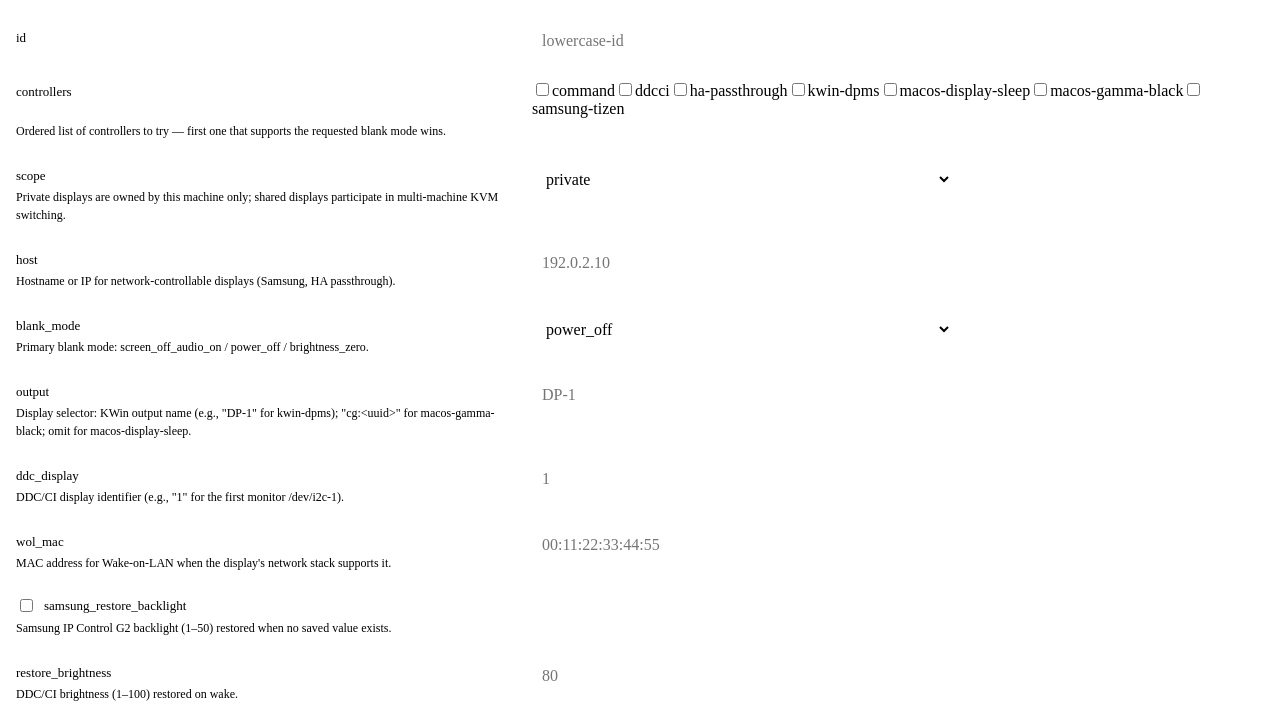
Test case: CreateEntityForm — guided help / placeholders for every creatable field (2.i) › displays in shared mode additionally renders shared_*_code help
The image size is (1280, 720).
Select "shared" in the dropdown labelled "scope". click: coordinates (742, 180)
box: 532,164 -> 952,195
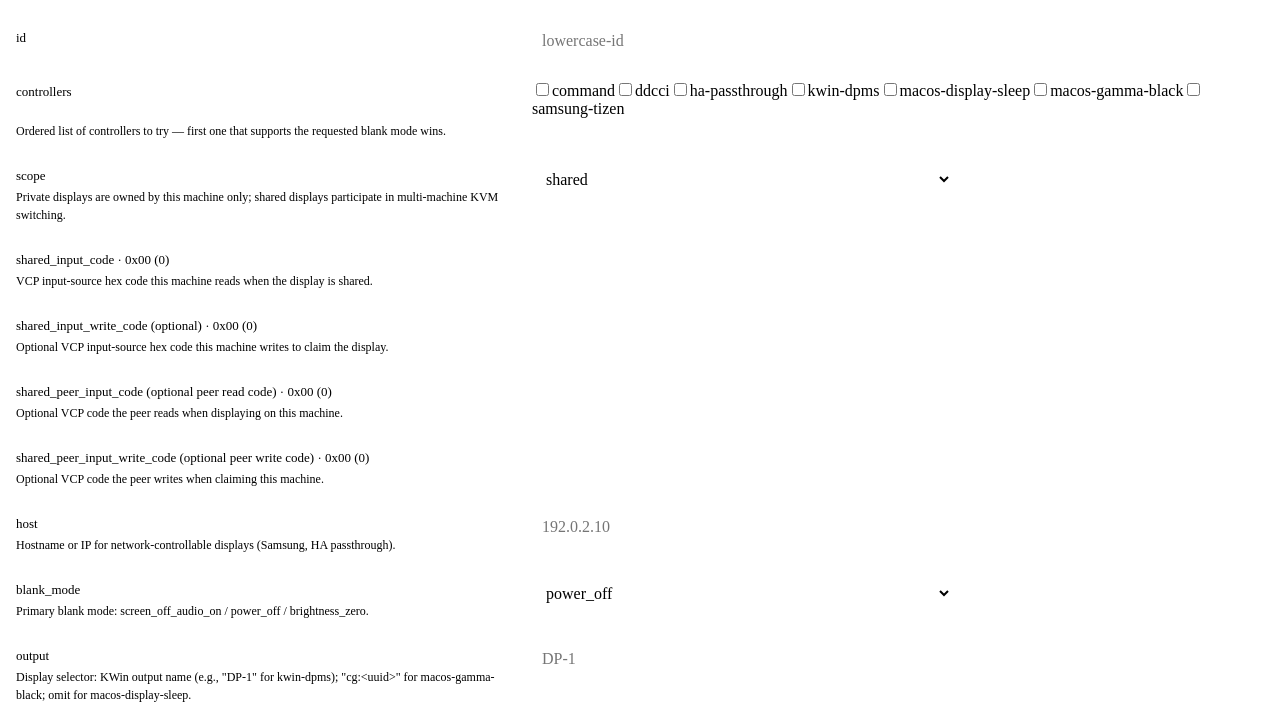
Now the text "VCP input-source hex code this machine reads when the display is shared." is shown, box 16,274 -> 373,288
Now the text "Optional VCP input-source hex code this machine writes to claim the display." is shown, box 16,340 -> 388,354
Now the text "Optional VCP code the peer reads when displaying on this machine." is shown, box 16,406 -> 343,420
